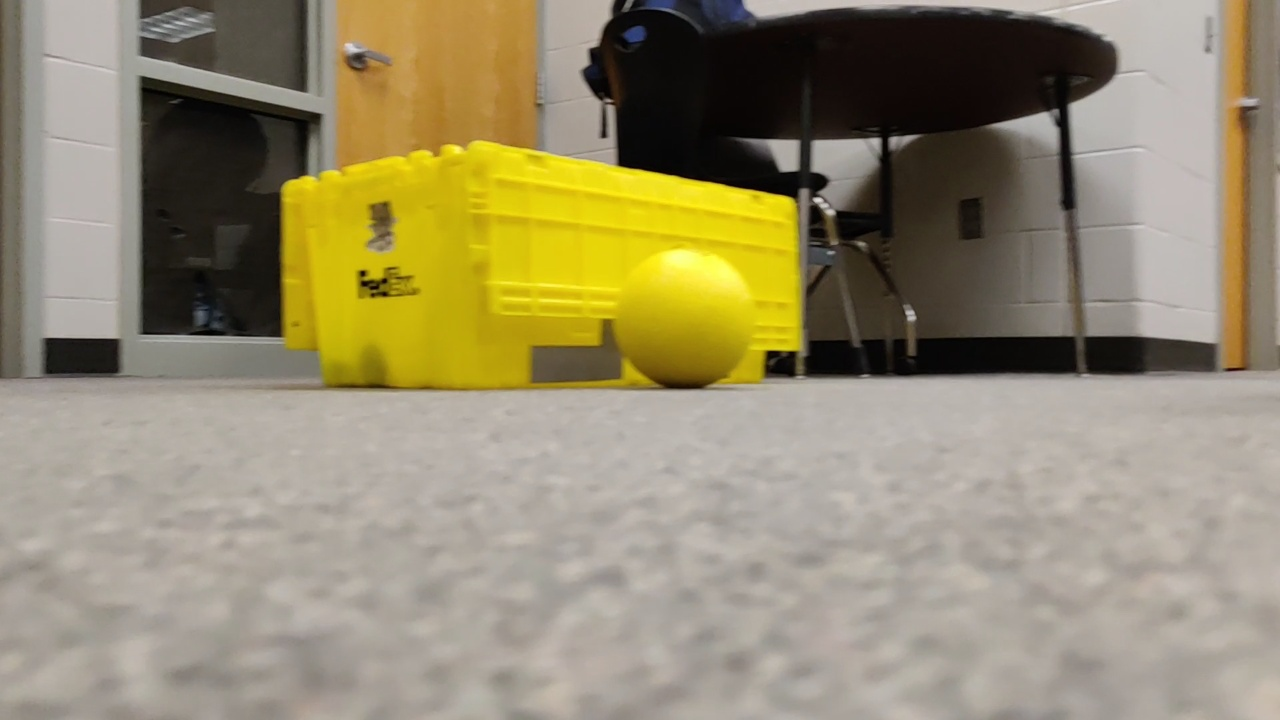Ball: (621, 247, 757, 385)
